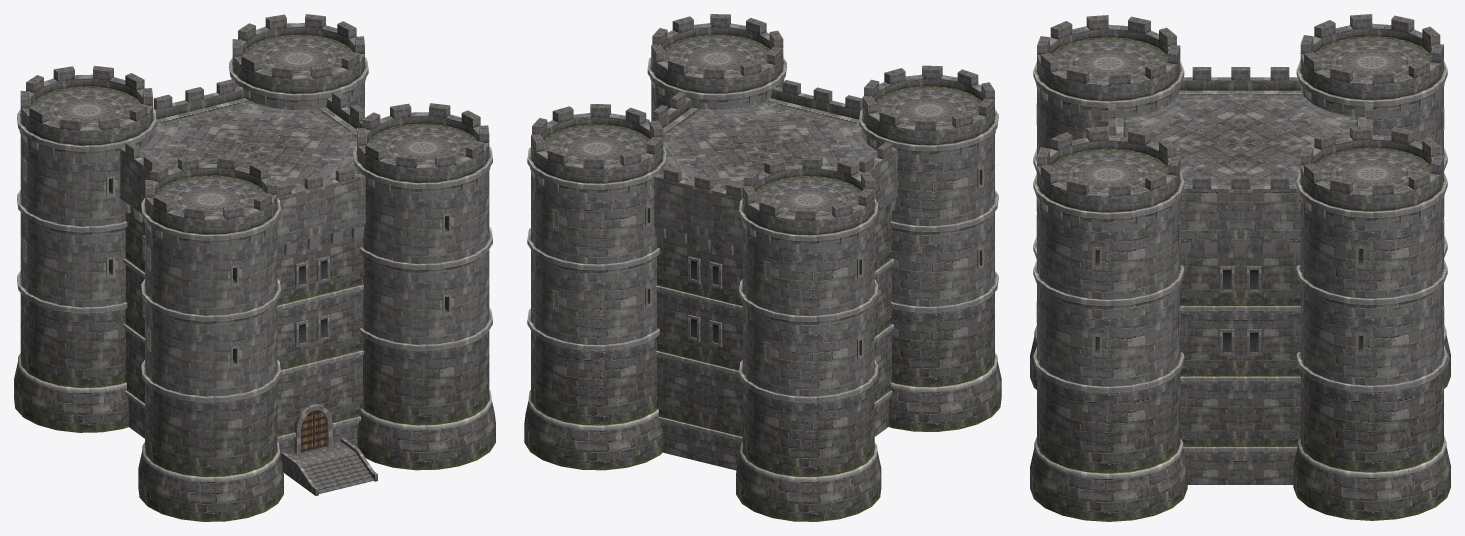
File: CastleBuilding.FBX
The picture shows the model from 3 angles, left to right: view 1: azimuth 30°, elevation 25°; view 2: azimuth 150°, elevation 25°; view 3: azimuth 270°, elevation 25°; orthographic projection. The views are drawn at different scales.
Parts seen in each view (by area): view 1: CastleBigColumn (×4), CastleBuilding, CastleBuildingStairs, DoorFrame; view 2: CastleBigColumn (×4), CastleBuilding; view 3: CastleBigColumn (×4), CastleBuilding.
Boxes of the visible parts, x1,y1,x2,y2 form: CastleBigColumn (×4): (14,14,495,521); CastleBuilding: (120,79,365,455); CastleBuildingStairs: (281,437,377,495); DoorFrame: (294,403,332,454); CastleBigColumn (×4): (524,14,1001,521); CastleBuilding: (646,80,897,470); CastleBigColumn (×4): (1030,14,1450,521); CastleBuilding: (1108,67,1372,484).
Size of the model in its own units: 5942 by 5140 by 5907.
